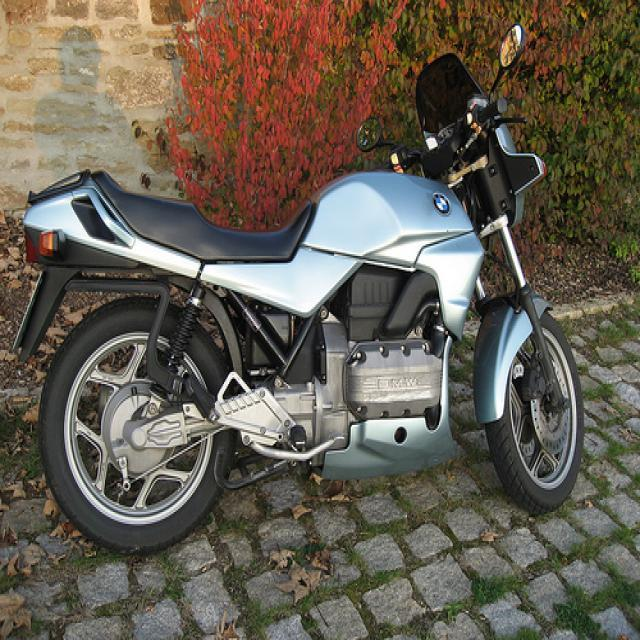Motorbike: (15, 9, 597, 569)
